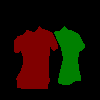maglia: (14, 25, 58, 89), (54, 26, 85, 84)
